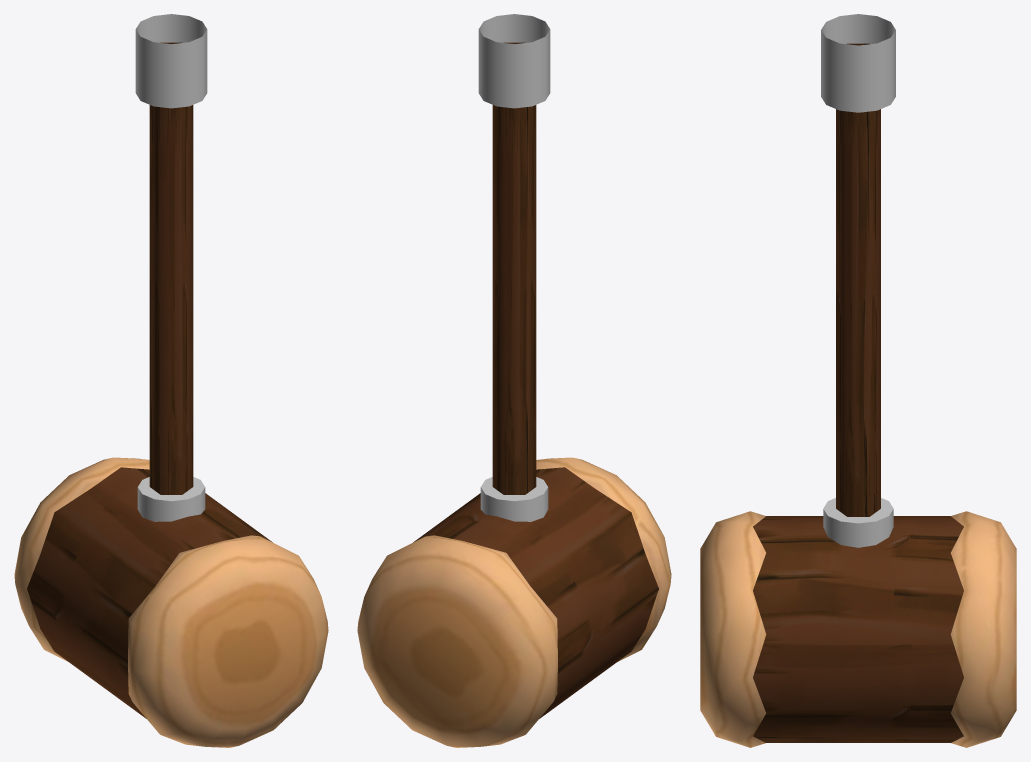
The model's file is obstacle_4_002.fbx.
The picture shows the model from 3 angles, left to right: view 1: azimuth 30°, elevation 25°; view 2: azimuth 150°, elevation 25°; view 3: azimuth 270°, elevation 25°; orthographic projection. The views are drawn at different scales.
Parts seen in each view (by area): view 1: obstacle_4_002; view 2: obstacle_4_002; view 3: obstacle_4_002.
Boxes of the visible parts, x1,y1,x2,y2 form: obstacle_4_002: (14, 14, 328, 747); obstacle_4_002: (357, 14, 671, 747); obstacle_4_002: (700, 14, 1016, 747).
Bounding box in the file's own units: 141 × 188 × 463.
